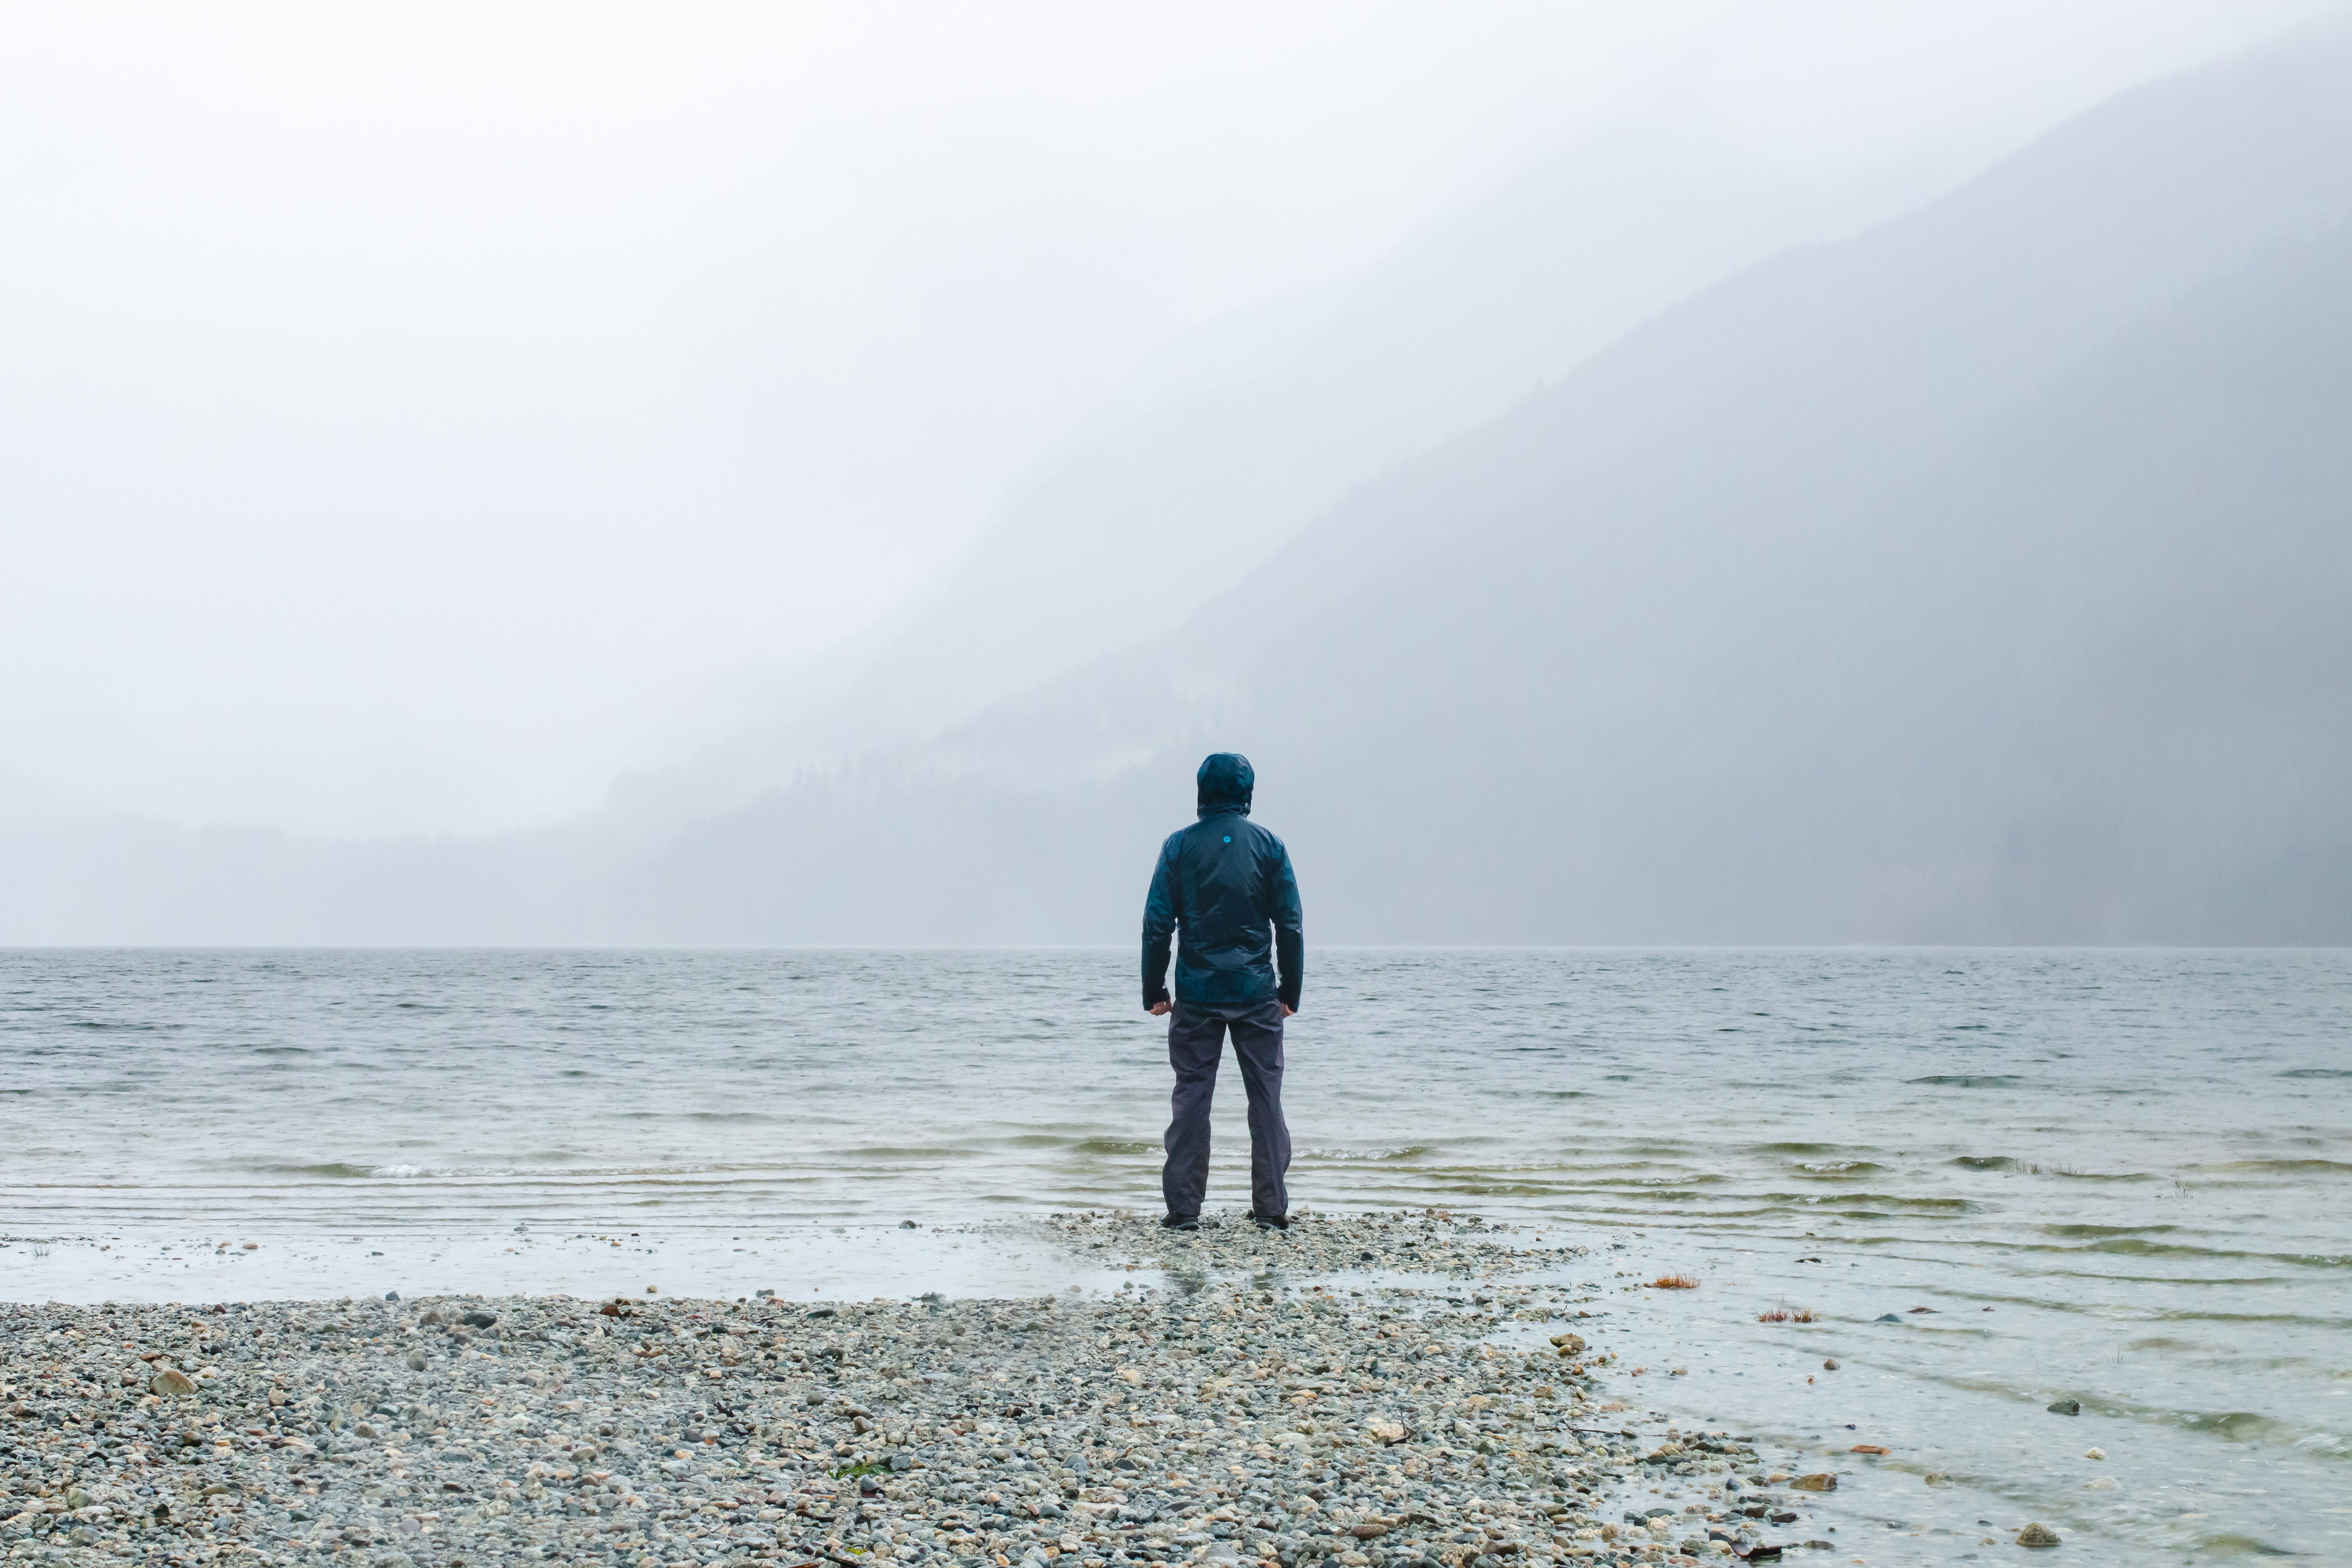person: (1141, 752, 1306, 1226)
